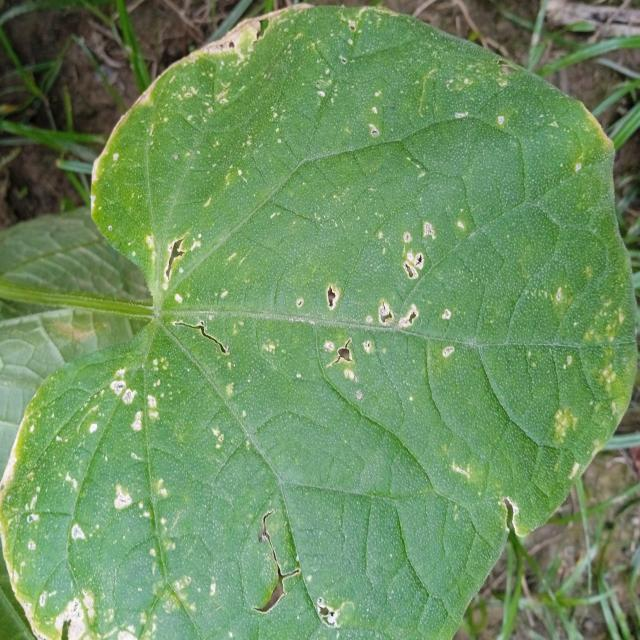cucumber_anthracnose: (25, 11, 630, 637)
